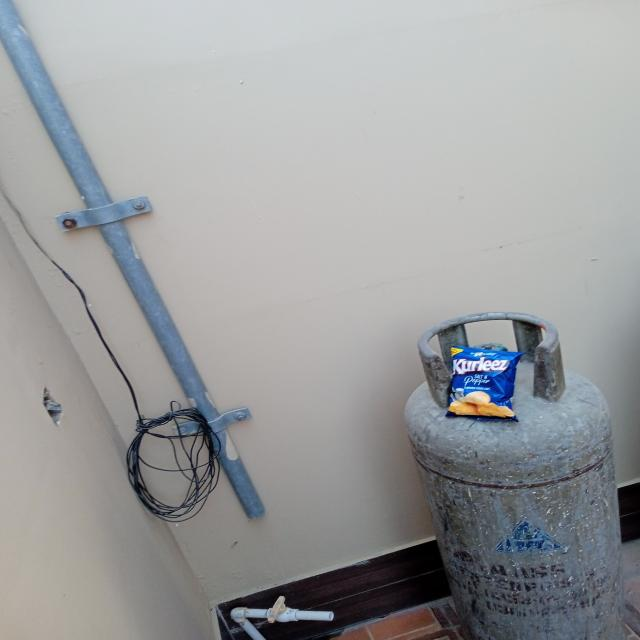Plastic: (441, 343, 525, 426)
